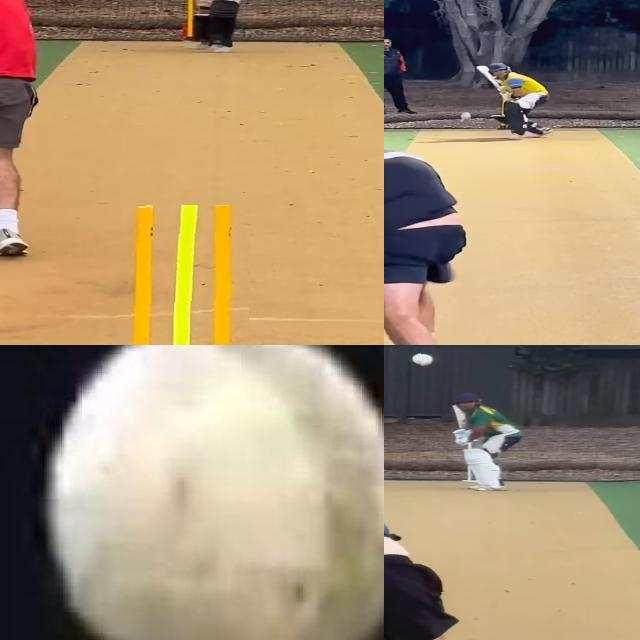Cricket ball: (26, 345, 384, 640), (409, 350, 438, 368), (460, 112, 472, 120)
Stumps: (112, 205, 251, 345)
